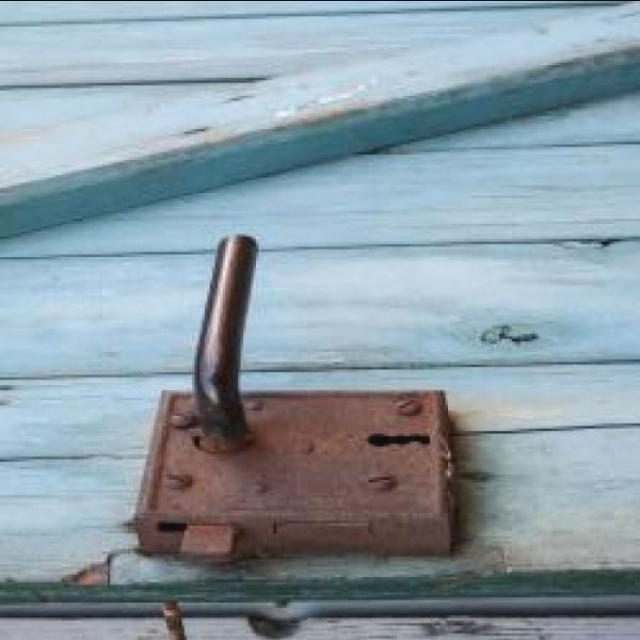corrosion: (130, 231, 459, 563), (186, 232, 263, 449)
crack: (464, 419, 640, 439)
dampens: (352, 136, 419, 160)
